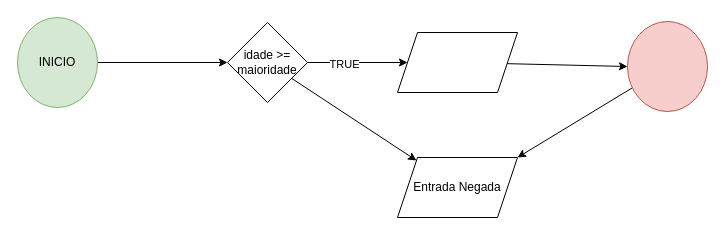
Image size: 725x235. Some labels were removed from this diagram. The box of each missing label's shape, as (x1, y1, x2, y2) in pixels:
Entrada permitida: (396, 32, 518, 92)
FIM: (626, 20, 708, 112)
